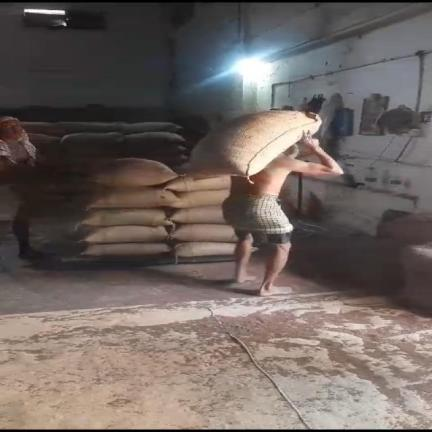Zone-Counting: (190, 98, 343, 296)
